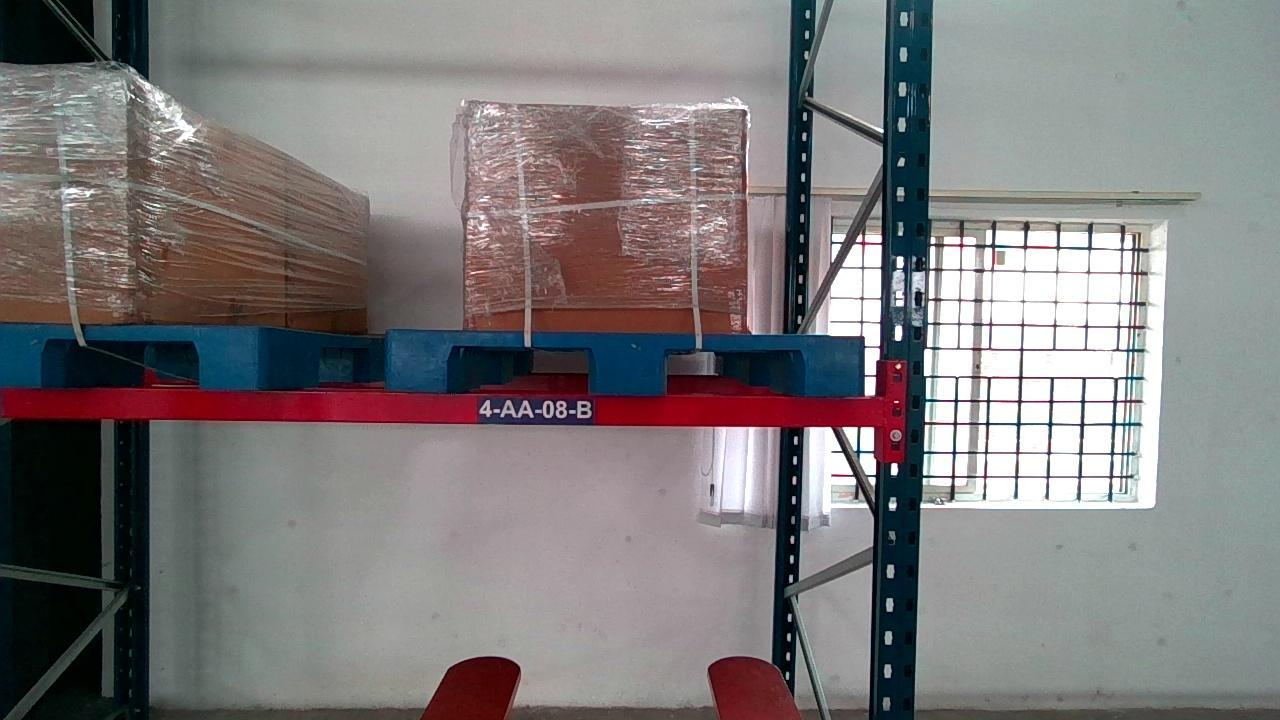h_rack: (1, 389, 883, 427)
small_pallet: (387, 331, 867, 390)
